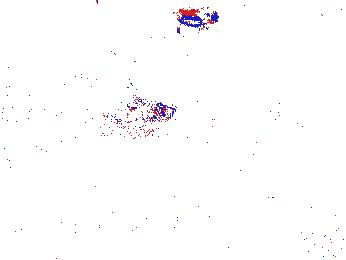X-ray fish: (104, 100, 177, 139)
red belly glassfish: (171, 7, 218, 29)
